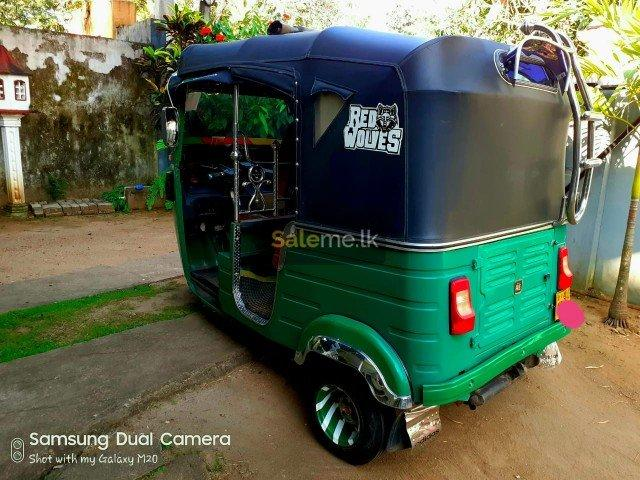threewheel: (159, 24, 573, 466)
